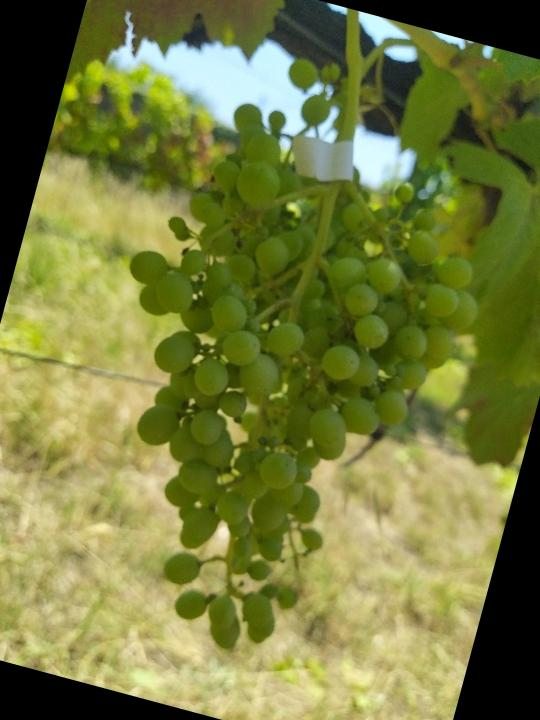grape: (38, 82, 521, 695)
